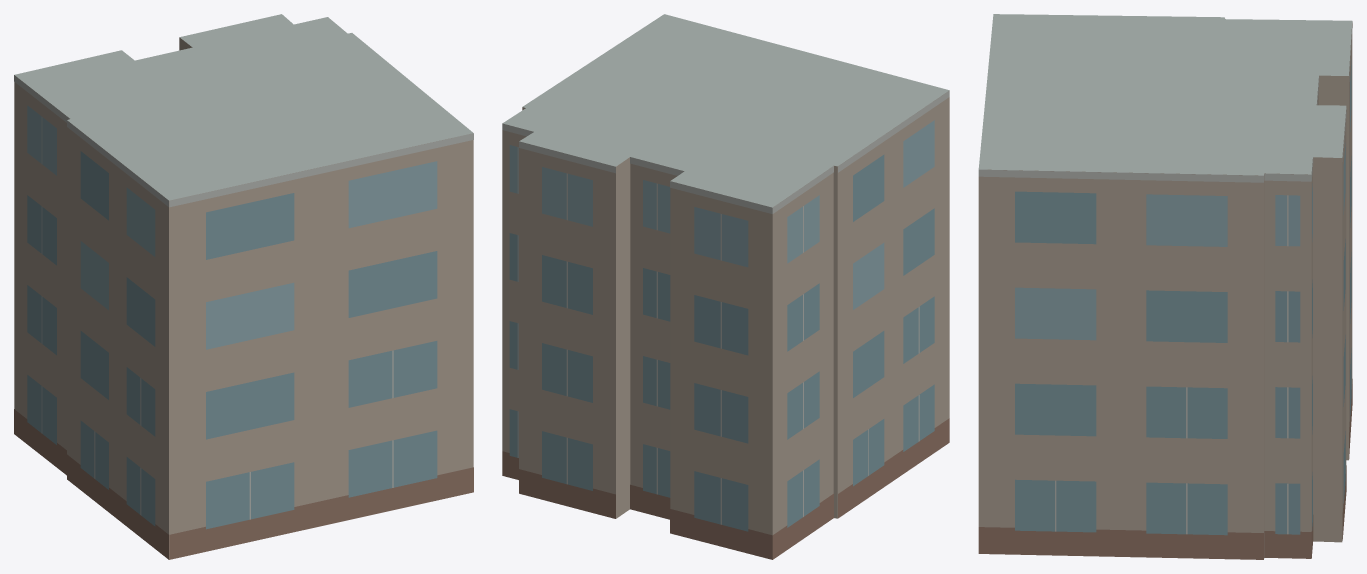
File: survey-upis-32980911.glb
3 renders of one model, left to right at view 1: azimuth 30°, elevation 25°; view 2: azimuth 150°, elevation 25°; view 3: azimuth 270°, elevation 25°, orthographic. The views are drawn at different scales.
Visible parts, largest first — view 1: survey-upis-32980911.tmp; view 2: survey-upis-32980911.tmp; view 3: survey-upis-32980911.tmp.
Part boxes in pixels (bbox=[...]): survey-upis-32980911.tmp: bbox=[14, 14, 473, 559]; survey-upis-32980911.tmp: bbox=[502, 14, 949, 559]; survey-upis-32980911.tmp: bbox=[978, 14, 1352, 559].
Size of the model in its own units: 11.75 by 13.02 by 11.49.
